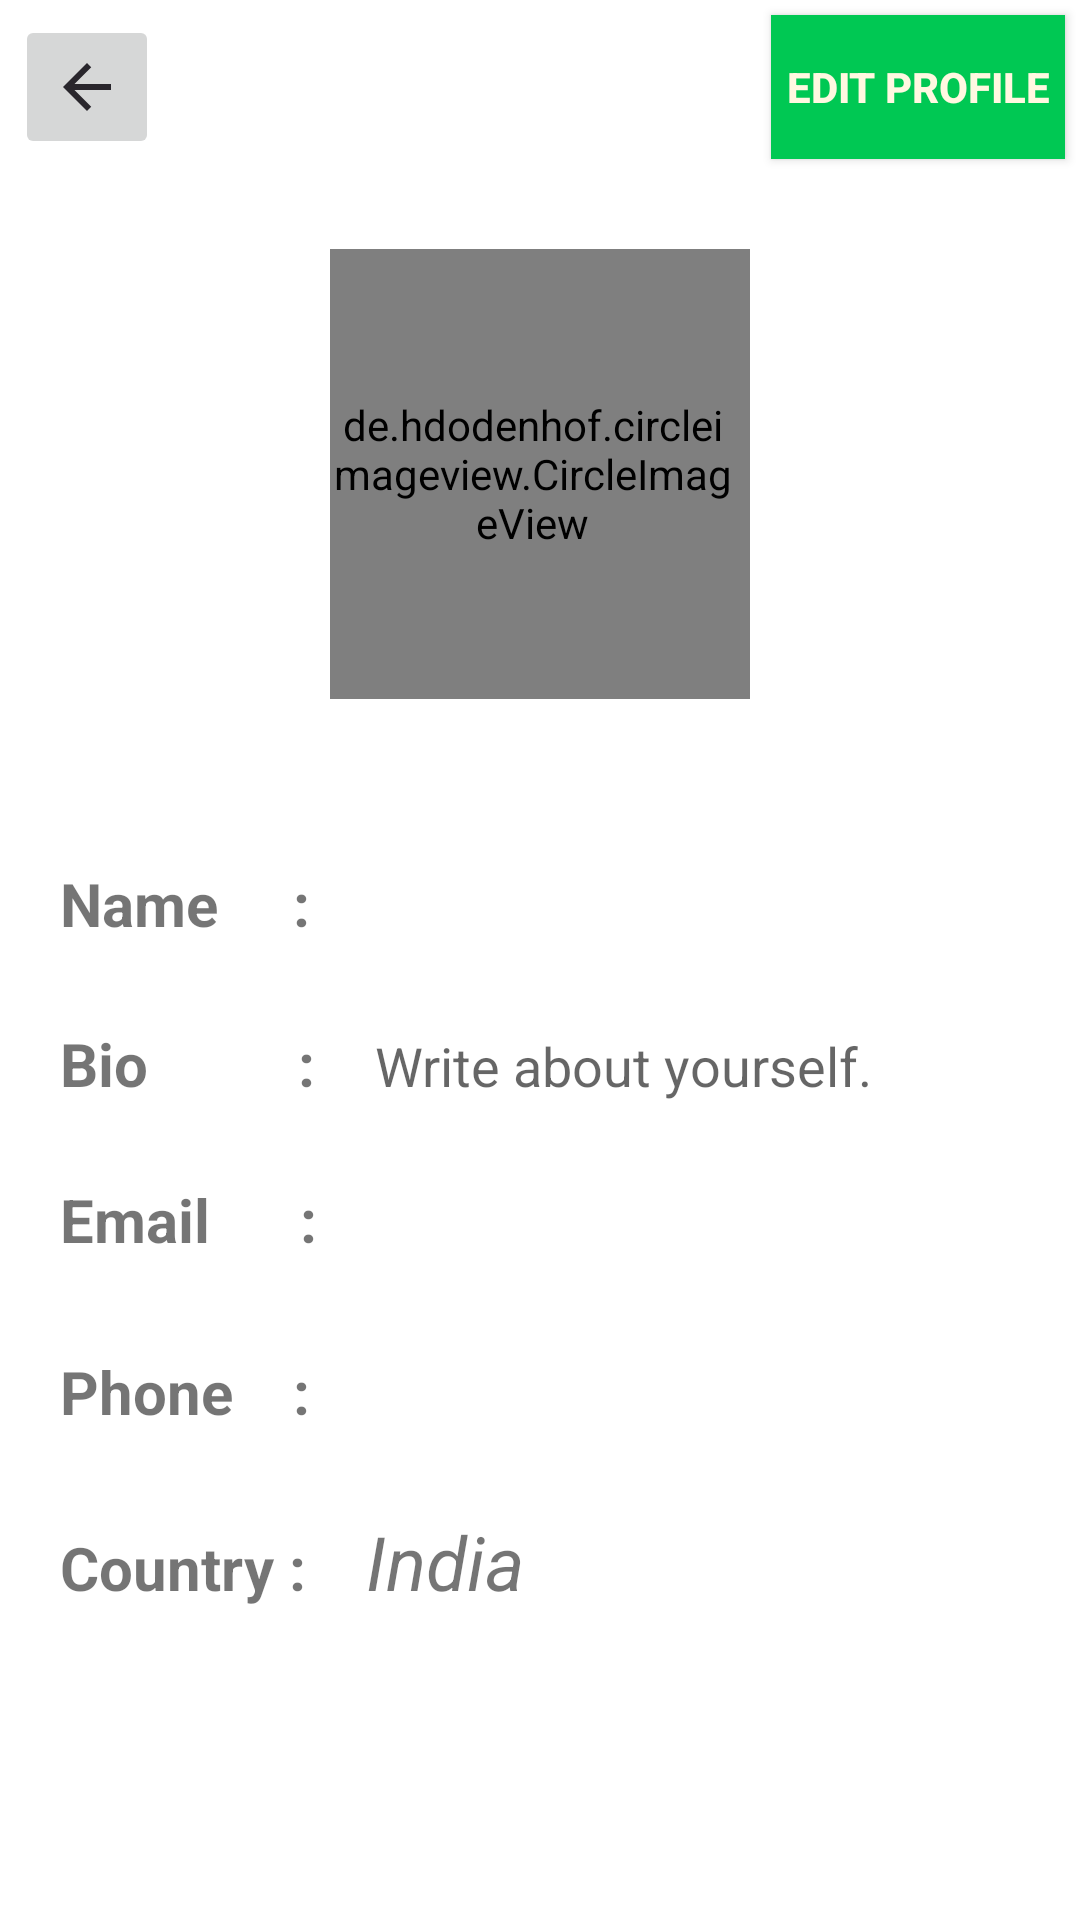

Icon click points for this 1080 x 1920 phone screenshot, format [x,y]:
back: [87,87]
